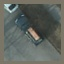car: (13, 10, 46, 47)
